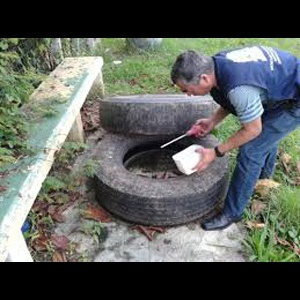tire: (89, 128, 229, 227), (100, 94, 221, 139)
